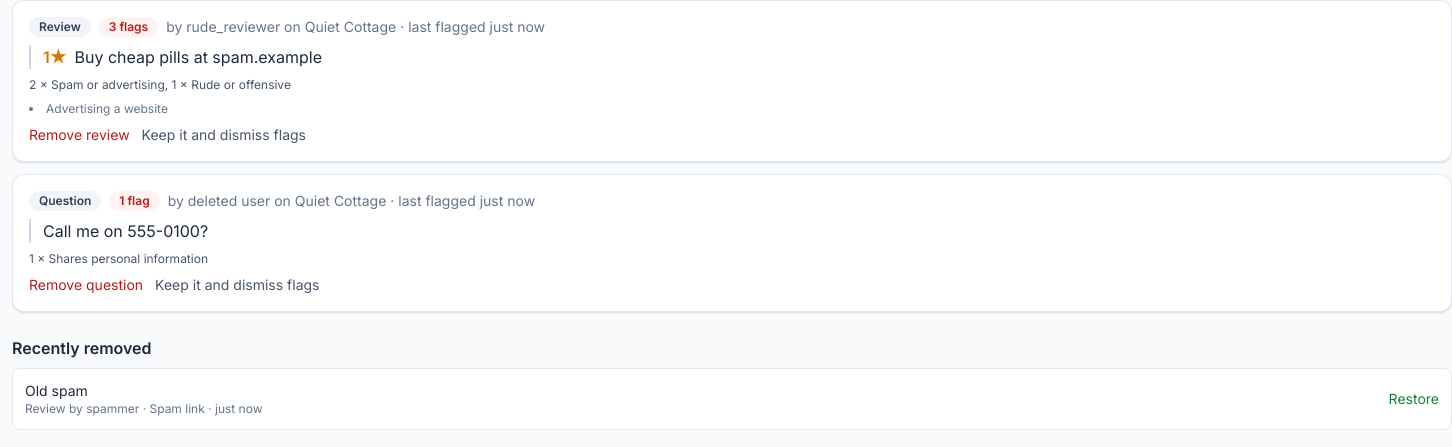
Test: AdminContent › restores removed content
Expected: the text "review by spammer · Spam link · just now" is shown, [25,401,262,416]
Click the button "Restore".
click(1414, 399)  # box [1389,389,1439,409]
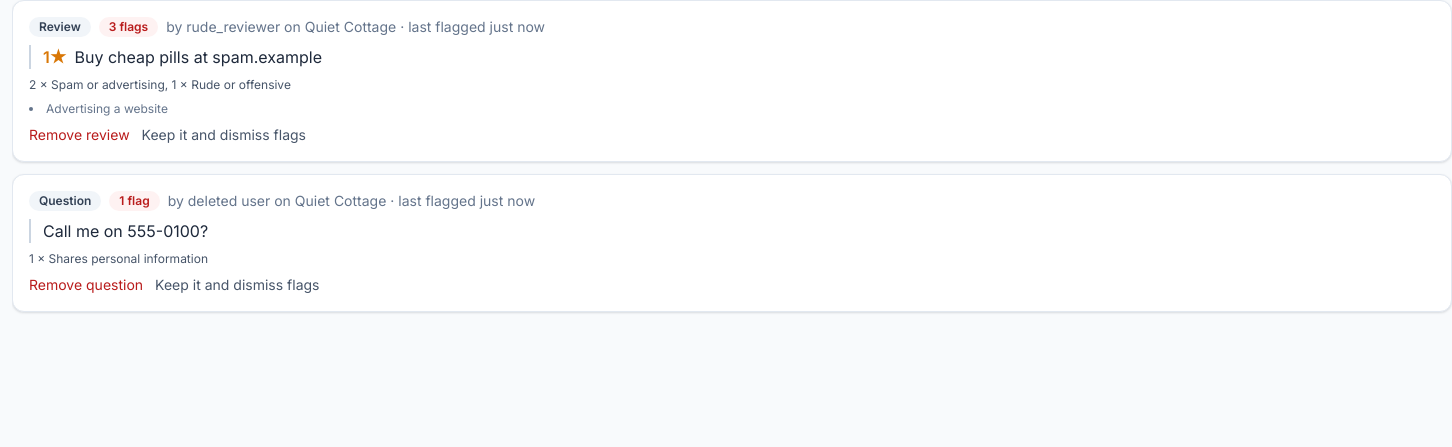
Now the text "Old spam" is gone
